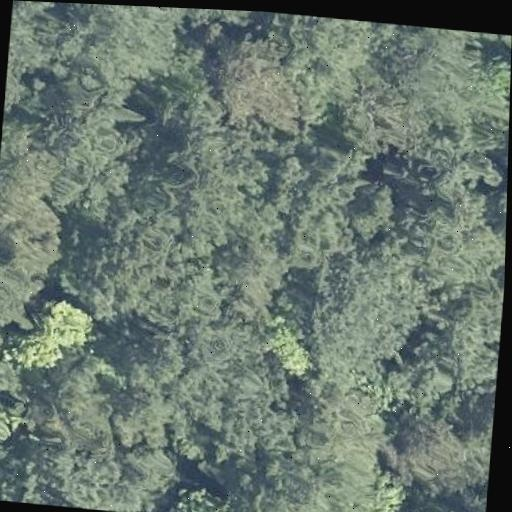tree-top: (120, 299, 276, 478), (351, 21, 512, 173), (67, 196, 230, 332), (13, 364, 153, 512), (255, 395, 403, 512), (309, 239, 433, 372), (0, 135, 69, 338), (32, 90, 133, 226), (44, 2, 182, 90), (204, 33, 308, 135), (406, 193, 505, 295), (0, 288, 102, 376), (399, 405, 494, 499), (283, 14, 380, 104), (256, 314, 319, 379), (345, 175, 402, 238), (158, 483, 249, 512), (0, 328, 19, 441)
